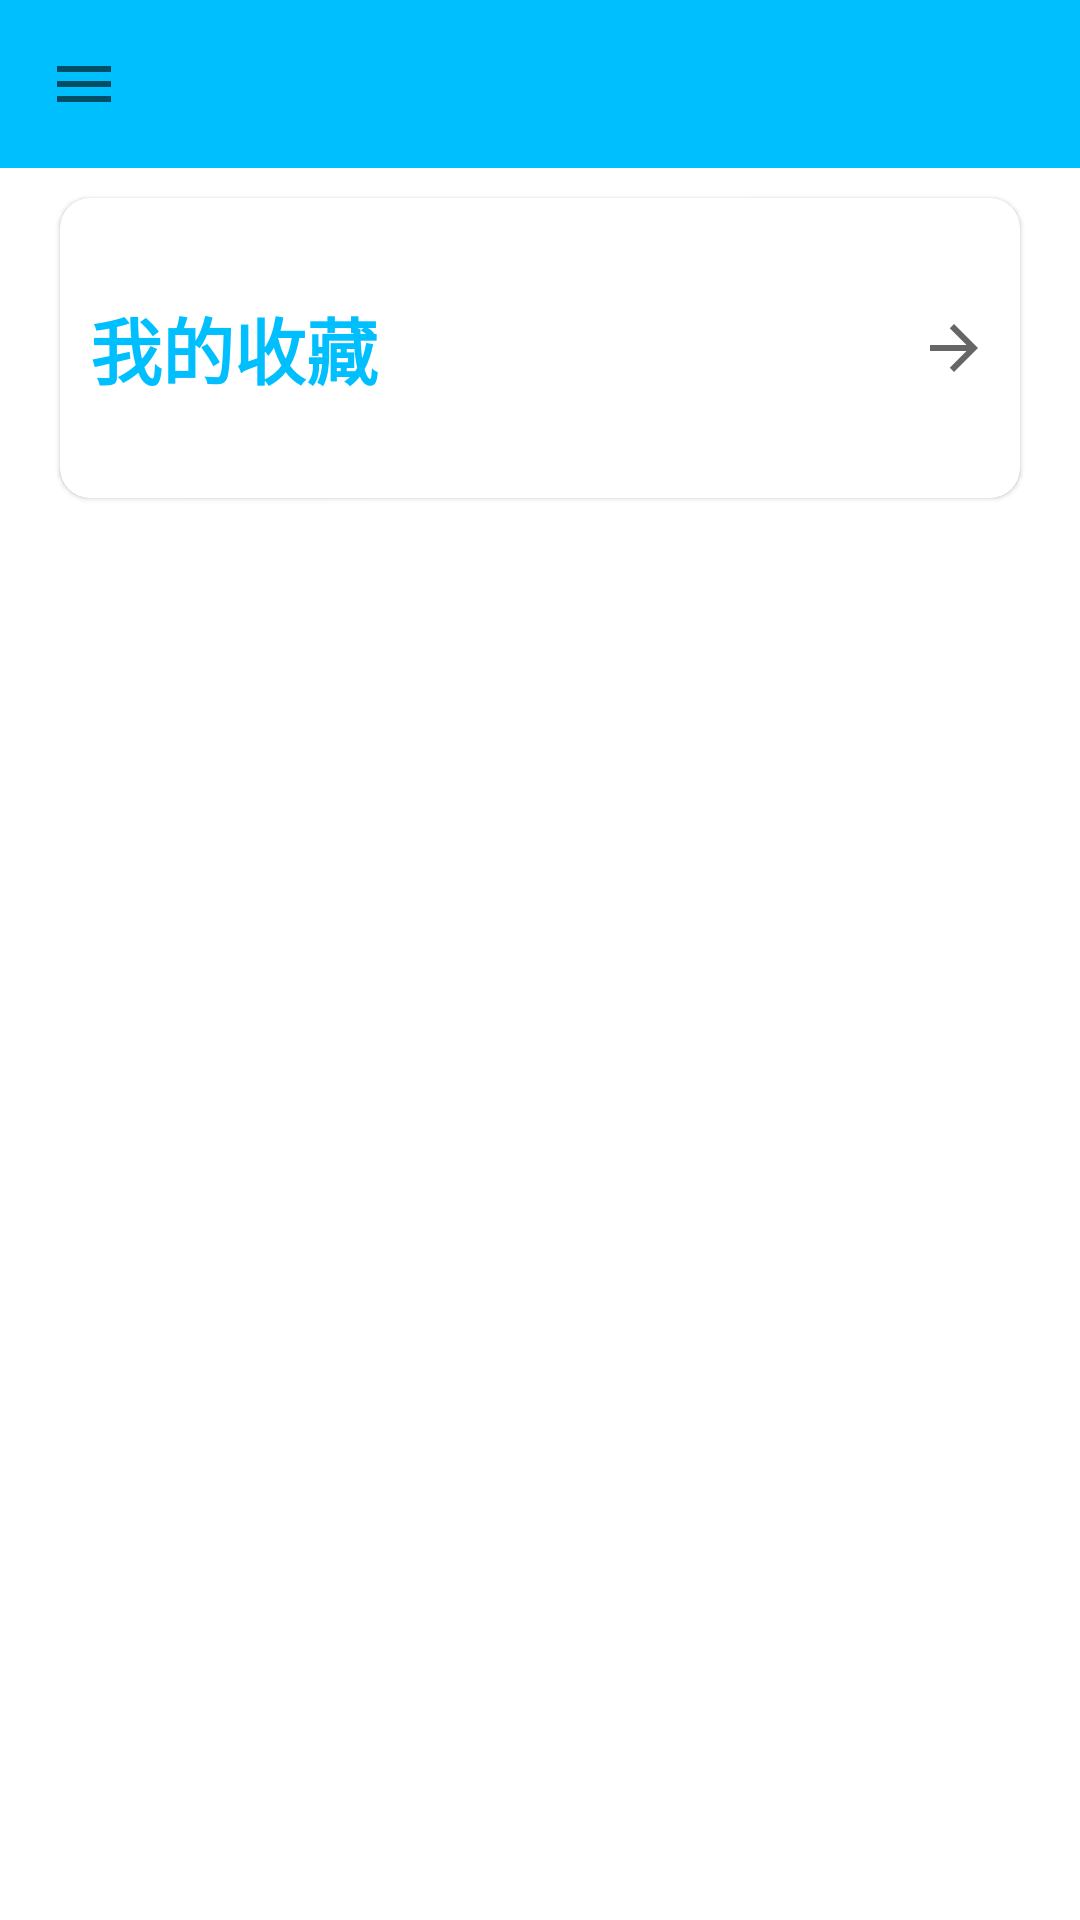

Screen size 1080px x 1920px. Icon name, then its center in pixels as [x,y]:
arrow forward: [954,348]
